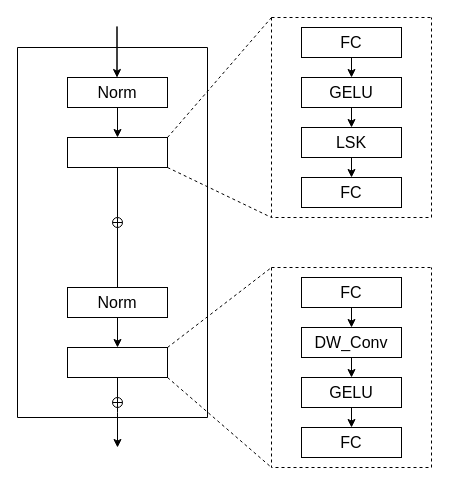
Some shapes in this 449 by 486 pixel diagram are drawn without their labels. The box of each missing label's shape, as (x1, y1, x2, y2) in pixels:
FF N: (66, 346, 168, 378)
LK Selection: (66, 136, 168, 168)
